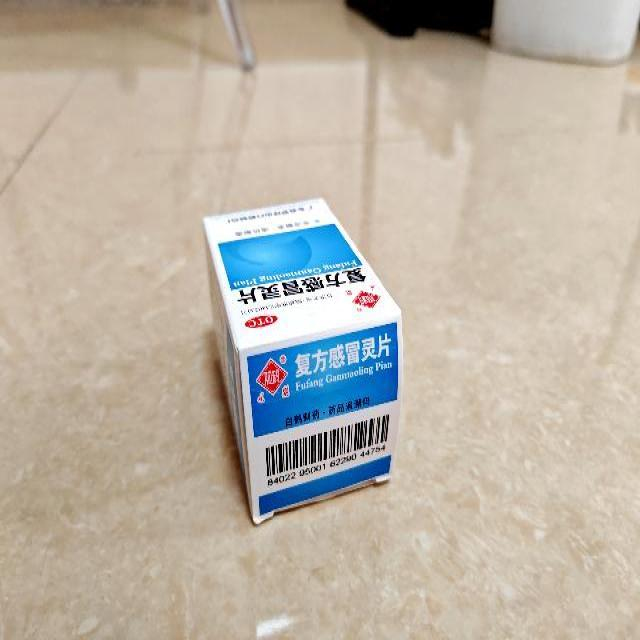box: (202, 196, 404, 522)
